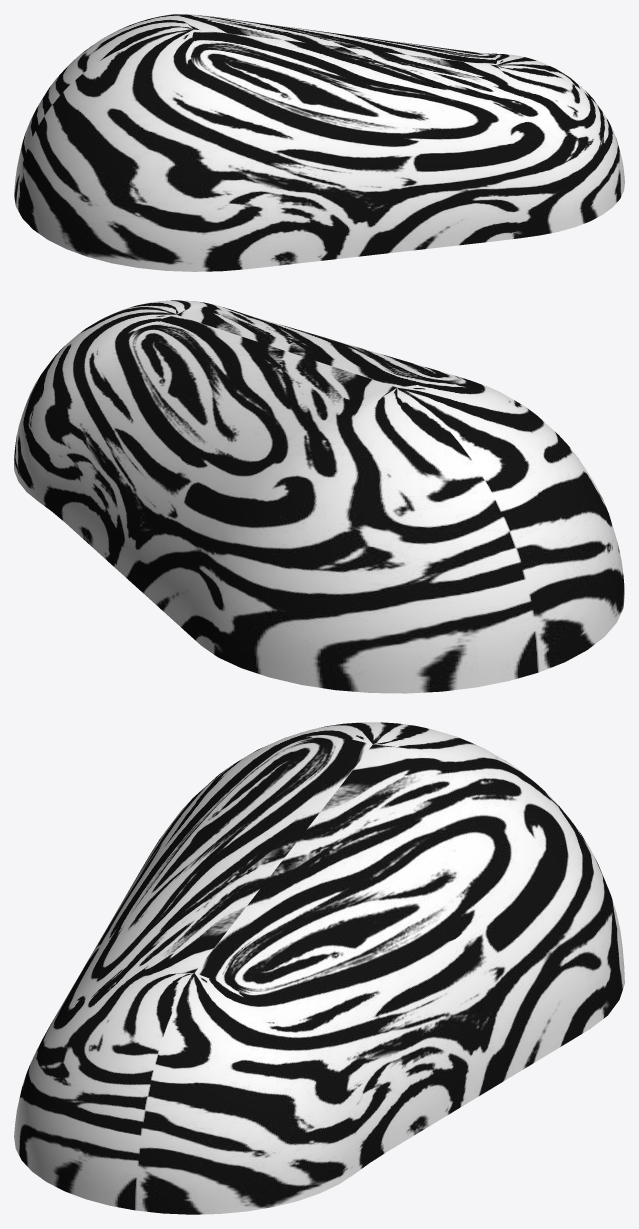
File: mountain.obj
3 renders of one model, top to bottom at view 1: azimuth 30°, elevation 25°; view 2: azimuth 150°, elevation 25°; view 3: azimuth 270°, elevation 25°, orthographic. The views are drawn at different scales.
Parts seen in each view (by area): view 1: initialShadingGroup polySurface21; view 2: initialShadingGroup polySurface21; view 3: initialShadingGroup polySurface21.
Part boxes in pixels (x1,y1,x2,y2): initialShadingGroup polySurface21: (14,14,624,271); initialShadingGroup polySurface21: (14,300,624,693); initialShadingGroup polySurface21: (14,722,624,1214).
Bounding box in the file's own units: 6.06 × 1.9 × 4.54.
Materials: 1 (1 with a texture image).
